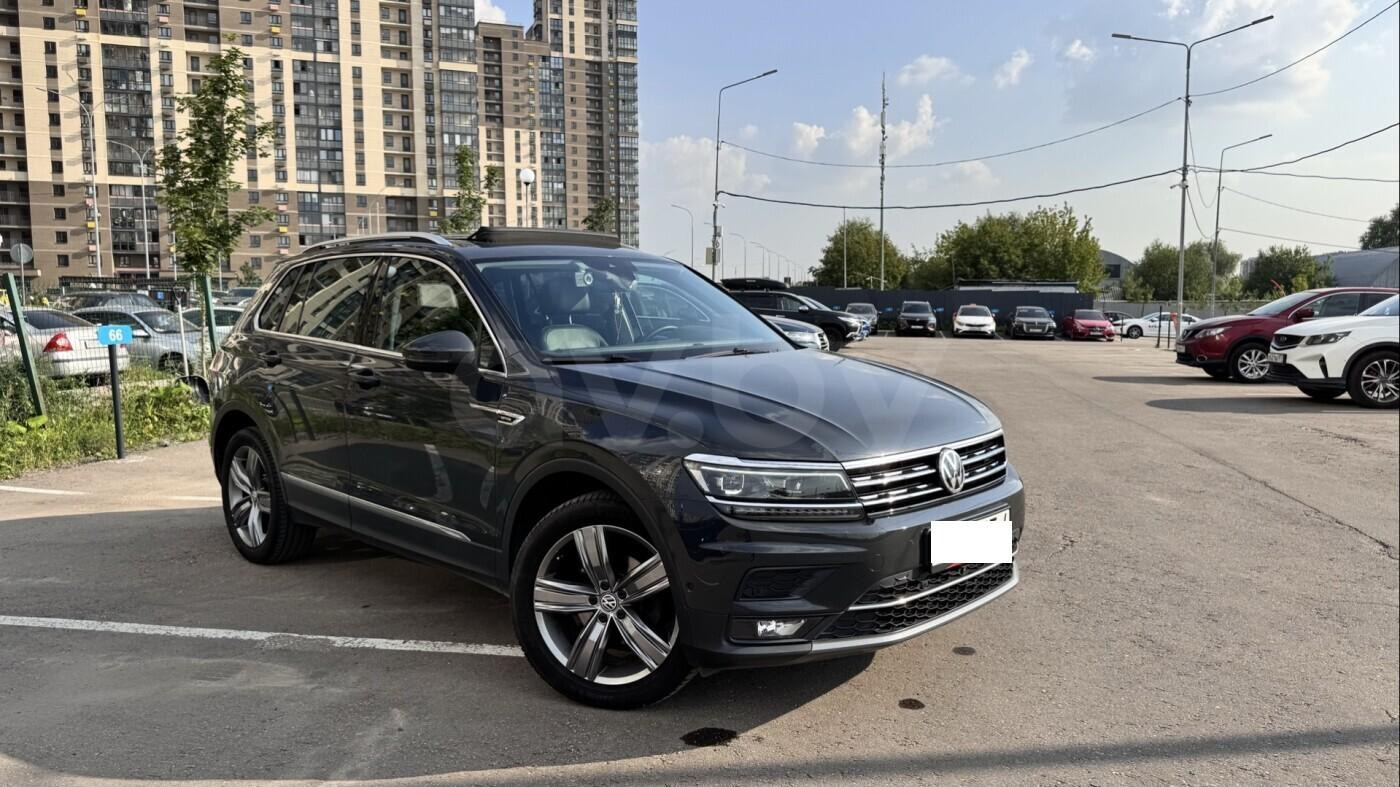Tiguan_2016-2021: (204, 233, 1030, 696)
